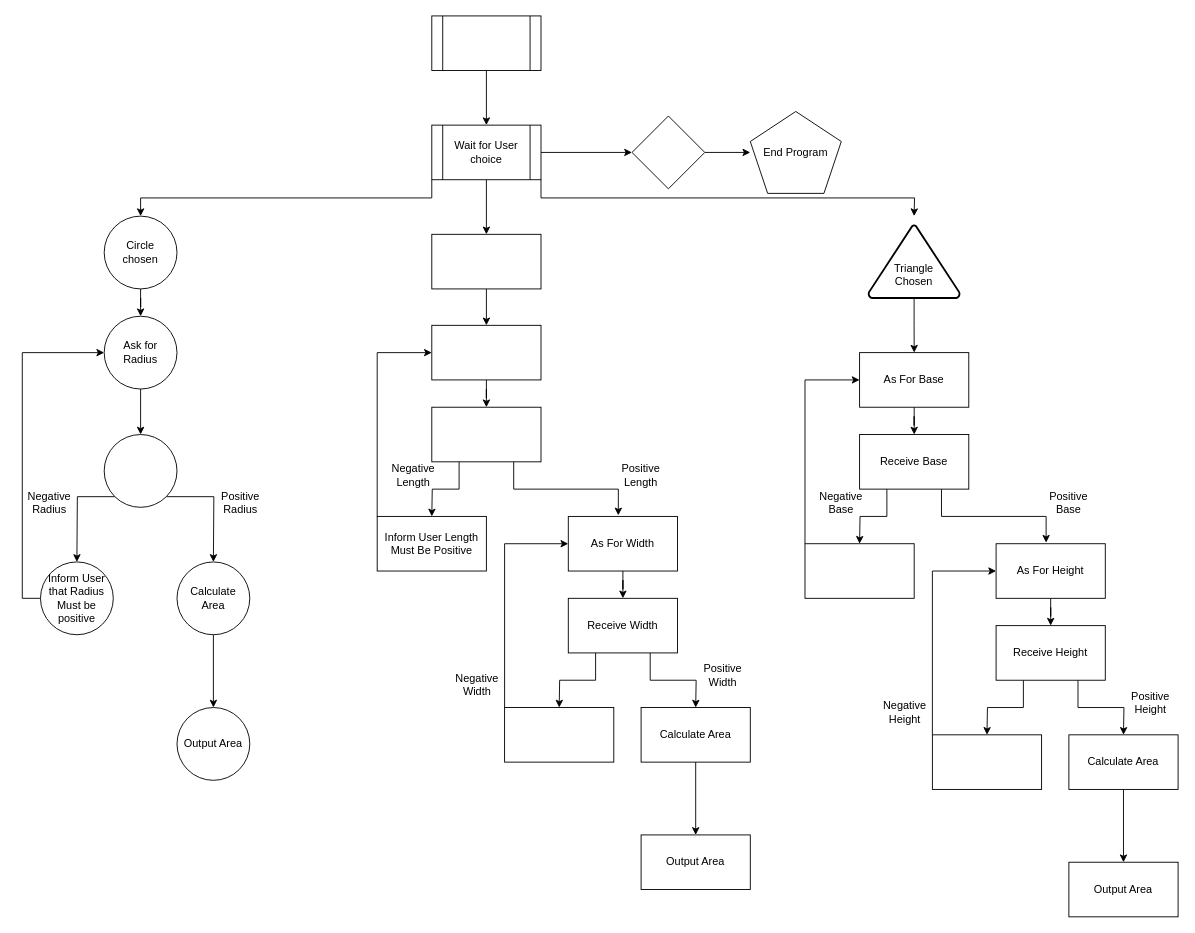
The diagram is 1195 pixels wide and 933 high, and some of its shapes have lost their labels. The centre of each missing label's shape, as x and y in pixels:
As For Length: the point at 486,352
Display menu with options for user: the point at 486,43
Inform User Base Must Be Positive: the point at 859,570
Inform User Height Must Be Positive: the point at 986,761
Inform User Width Must Be Positive: the point at 559,734
Quit Chosen: the point at 668,152
Receive Length: the point at 486,434
Receive Radius: the point at 140,470
Rectangle Chosen: the point at 486,261
